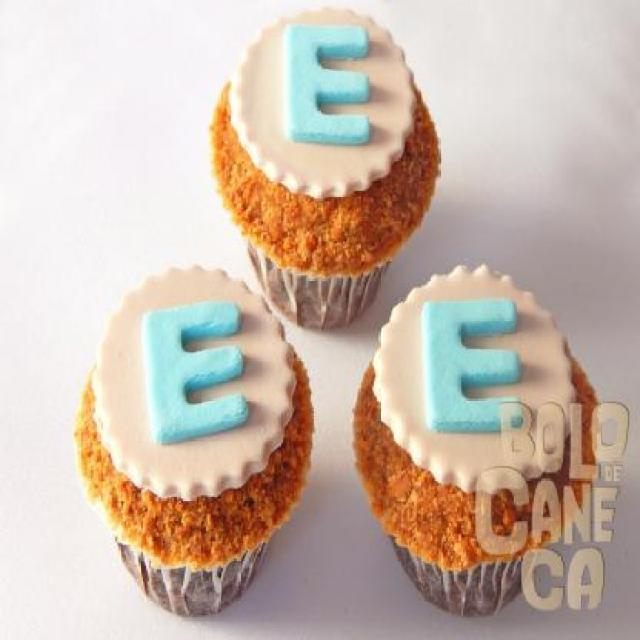Muffin: (350, 260, 602, 616), (72, 258, 318, 616), (202, 3, 441, 332)
